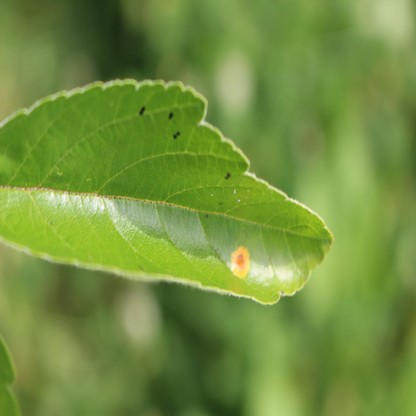rust: (229, 246, 251, 278)
